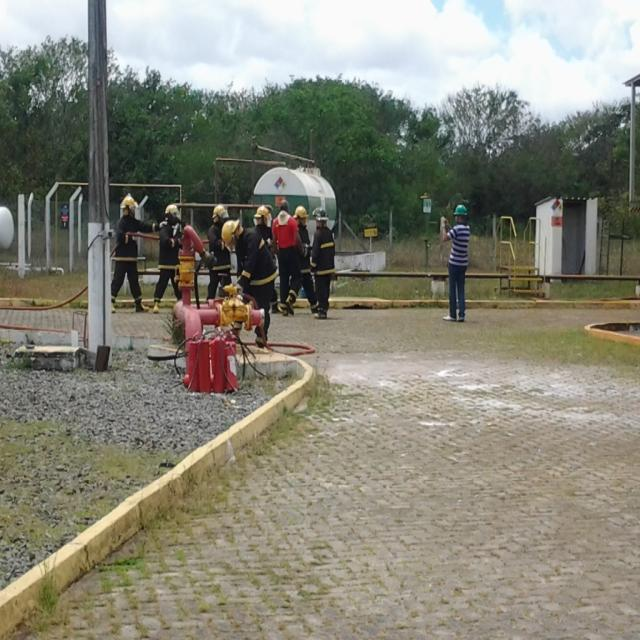no_fire: (9, 55, 630, 592)
